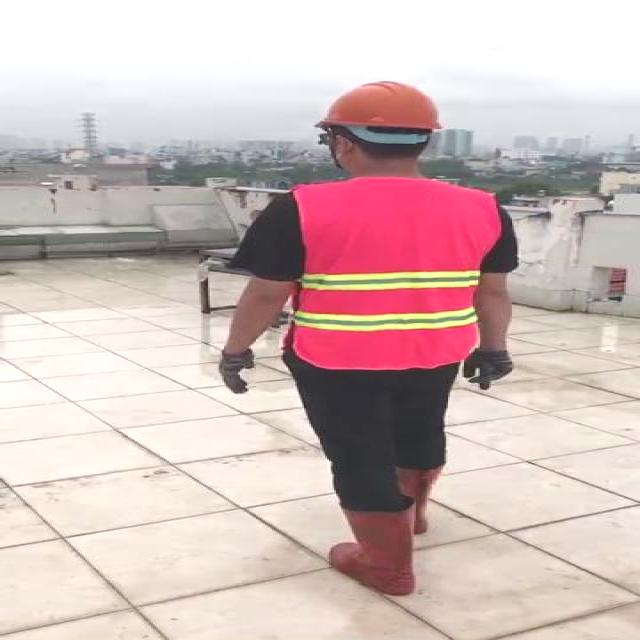boots: (329, 504, 419, 597), (393, 458, 446, 537)
hand_glove: (460, 352, 512, 390), (218, 348, 260, 394)
head_helmet: (313, 74, 443, 132)
person: (202, 74, 524, 596)
vest: (293, 179, 498, 371)
